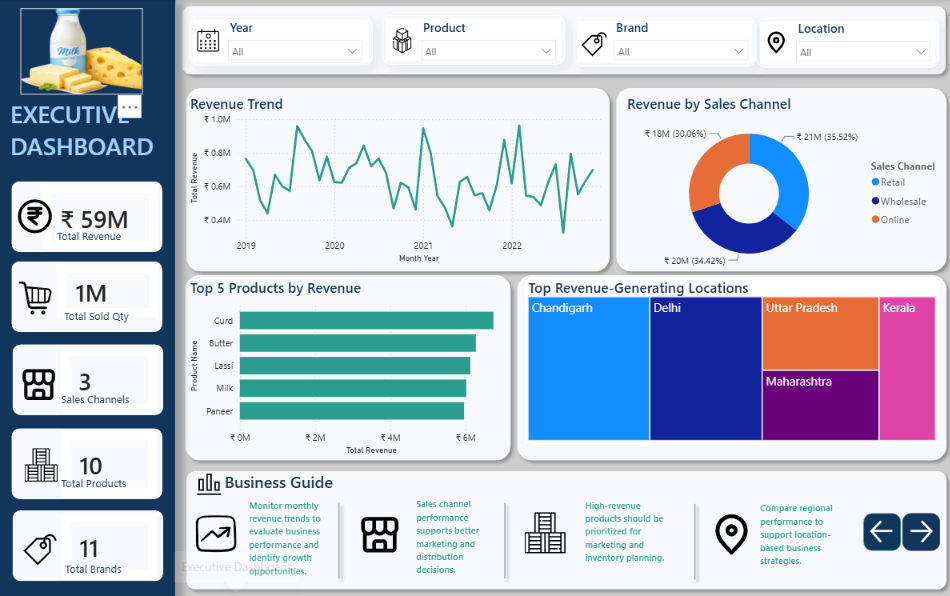

The dashboard page shown, as its layout file describes it:
{"tool":"powerbi","page":{"name":"Executive Dashboard","canvas":[1280,800],"ordinal":1},"visuals":[{"type":"shape","box":[17.4,244,188.9,85],"z":0},{"type":"shape","box":[17.4,351.2,202.4,95.2],"z":0,"group":"g6"},{"type":"shape","box":[18.8,462.5,202.4,95.2],"z":0,"group":"g7"},{"type":"shape","box":[17.4,575.1,202.4,95.2],"z":0,"group":"g8"},{"type":"shape","box":[18.8,685,202.4,95.2],"z":0,"group":"g9"},{"type":"shape","box":[1016.1,25.5,245,66.4],"z":1000,"group":"g10"},{"type":"cardVisual","fields":{"Data":["Measure Table.Total Sold Quantity"]},"box":[79.1,355.2,135.4,71],"z":1000,"group":"g6"},{"type":"cardVisual","fields":{"Data":["Measure Table.Total Sales Channels"]},"box":[83.1,466.5,130,88.5],"z":1000,"group":"g7"},{"type":"cardVisual","fields":{"Data":["Measure Table.Total Products"]},"box":[84.4,579.1,128.7,88.5],"z":1000,"group":"g8"},{"type":"shape","box":[242.6,623.3,1037.5,176.9],"z":1000},{"type":"cardVisual","fields":{"Data":["Measure Table.Total Brands"]},"box":[84.5,689,128.7,88.5],"z":1000,"group":"g9"},{"type":"shape","box":[514.7,21.4,245.2,66.4],"z":2000,"group":"g3"},{"type":"shape","box":[686.3,360.6,593.8,266.8],"z":2000},{"type":"textbox","box":[83.1,410.2,113.9,36.2],"z":2000,"group":"g6"},{"type":"textbox","box":[79.1,634.1,113.9,36.2],"z":2000,"group":"g8"},{"type":"textbox","box":[84.5,749.3,113.9,36.2],"z":2000,"group":"g9"},{"type":"shape","box":[256,22.8,245.3,66.4],"z":3000,"group":"g1"},{"type":"shape","box":[770.8,24.1,244.5,66.4],"z":3000,"group":"g2"},{"type":"shape","box":[241.3,360.6,454.4,266.8],"z":3000},{"type":"image","box":[26.8,378,45,45],"z":3000,"group":"g6"},{"type":"textbox","box":[79.1,521.5,113.9,36.2],"z":3000,"group":"g7"},{"type":"image","box":[34.8,601.9,45,45],"z":3000,"group":"g8"},{"type":"image","box":[33.5,715.8,45,45],"z":3000,"group":"g9"},{"type":"image","box":[705.1,687.7,55,55],"z":4000},{"type":"shape","box":[819,109.9,461.1,264.1],"z":5000},{"type":"shape","box":[242.6,109.9,585.8,264.1],"z":6000},{"type":"shape","box":[237.3,0,1041.6,109.9],"z":7000},{"type":"shape","box":[0,0,237.3,800.3],"z":8000},{"type":"treemap","title":"Top Revenue-Generating Locations","fields":{"Group":["Fact_Dairy.Location"],"Values":["Measure Table.Total Revenue"]},"box":[705.1,374,556.3,222.5],"z":9000},{"type":"clusteredBarChart","title":"Top 5 Products by Revenue","fields":{"Category":["Fact_Dairy.Product Name"],"Y":["Measure Table.Total Revenue"]},"box":[252,374,443.7,241.3],"z":10000},{"type":"donutChart","title":"Revenue by Sales Channel","fields":{"Y":["Measure Table.Total Revenue"],"Category":["Fact_Dairy.Sales Channel"]},"box":[837.8,127.3,441,246.7],"z":11000},{"type":"textbox","box":[10.7,127.3,219.8,138.1],"z":12000},{"type":"textbox","box":[292.2,627.3,241.3,42.9],"z":13000},{"type":"slicer","fields":{"Values":["Dim_Date.Year"]},"box":[298.2,23.8,199.7,67],"z":14000,"group":"g1"},{"type":"slicer","fields":{"Values":["Fact_Dairy.Brand"]},"box":[814.8,24.1,200.2,66],"z":14000,"group":"g2"},{"type":"actionButton","box":[1211.8,689,50,50],"z":14000},{"type":"group","id":"g1","title":"Group 3","box":[256,22.8,245.3,68.4],"z":15000},{"type":"slicer","fields":{"Values":["Fact_Dairy.Product Name"]},"box":[556,23.8,200.8,66],"z":15000,"group":"g3"},{"type":"group","id":"g2","title":"Group 12","box":[770.8,24.1,245.3,68.4],"z":16000},{"type":"slicer","fields":{"Values":["Fact_Dairy.Location"]},"box":[1059.3,25.5,200.7,66],"z":16000,"group":"g10"},{"type":"group","id":"g3","title":"Group 13","box":[514.7,21.4,245.3,68.4],"z":17000},{"type":"group","id":"g4","title":"Group 14","box":[1016.1,25.5,245.3,67],"z":18000},{"type":"image","box":[29.5,12.1,163.5,115.3],"z":19000},{"type":"image","box":[781.1,27.7,34.1,65],"z":19000,"group":"g2"},{"type":"image","box":[263.5,22.8,34.3,65],"z":20000,"group":"g1"},{"type":"group","id":"g5","title":"Group 1","box":[17.4,244,202.4,95.2],"z":20000},{"type":"shape","box":[17.4,244,202.4,95.2],"z":20000,"group":"g5"},{"type":"image","box":[524.1,22.6,34.2,65],"z":21000,"group":"g3"},{"type":"cardVisual","fields":{"Data":["Measure Table.Total Revenue"]},"box":[59,248,155.5,88.5],"z":21000,"group":"g5"},{"type":"group","id":"g6","title":"Group 2","box":[17.4,351.2,202.4,95.2],"z":21000},{"type":"image","box":[24.1,265.4,49.6,50.9],"z":22000,"group":"g5"},{"type":"group","id":"g7","title":"Group 4","box":[18.8,462.5,202.4,95.2],"z":22000},{"type":"image","box":[1025.5,25.5,34.2,65.1],"z":23000,"group":"g10"},{"type":"group","id":"g8","title":"Group 5","box":[17.4,575.1,202.4,95.2],"z":23000},{"type":"group","id":"g9","title":"Group 6","box":[18.8,685,202.4,100.5],"z":24000},{"type":"group","id":"g10","title":"Group 15","box":[1016.1,25.5,245,66.4],"z":24001,"group":"g4"},{"type":"image","box":[950.4,685,65,65],"z":25000},{"type":"image","box":[28.5,484.8,52,65],"z":26000},{"type":"lineChart","title":"Revenue Trend","fields":{"Y":["Measure Table.Total Revenue"],"Category":["Dim_Date.Month Year"]},"box":[252,127.3,563,230.6],"z":27000},{"type":"textbox","box":[331.1,663.5,138.1,124.7],"z":28000},{"type":"shape","box":[424.9,666.2,63,119.3],"z":29000},{"type":"shape","box":[636.7,666.2,84.5,119.3],"z":30000},{"type":"shape","box":[887.4,667.6,92.5,119.3],"z":31000},{"type":"textbox","box":[73.7,303,113.9,36.2],"z":32000,"group":"g5"},{"type":"image","box":[264.1,689,55,55],"z":32000},{"type":"textbox","box":[555,662.2,98.8,124.6],"z":33000},{"type":"textbox","box":[781.5,663.5,127,124.6],"z":34000},{"type":"textbox","box":[1016.1,667.6,127,124.6],"z":35000},{"type":"image","box":[481.2,689,60,60],"z":36000},{"type":"image","box":[252,634.1,60.3,32.2],"z":37000},{"type":"actionButton","box":[1159.5,689,50,50],"z":38000}]}

Visuals, with their boxes in screenshot pixels (x1, y1, x2, y2), scaled from the page's 1280x800 canvas onto the 950x596 screenshot:
shape: x1=13 y1=182 x2=153 y2=245
shape: x1=13 y1=262 x2=163 y2=333
shape: x1=14 y1=345 x2=164 y2=415
shape: x1=13 y1=428 x2=163 y2=499
shape: x1=14 y1=510 x2=164 y2=581
shape: x1=754 y1=19 x2=936 y2=68
cardVisual - Measure Table.Total Sold Quantity: x1=59 y1=265 x2=159 y2=318
cardVisual - Measure Table.Total Sales Channels: x1=62 y1=348 x2=158 y2=413
cardVisual - Measure Table.Total Products: x1=63 y1=431 x2=158 y2=497
shape: x1=180 y1=464 x2=949 y2=595
cardVisual - Measure Table.Total Brands: x1=63 y1=513 x2=158 y2=579
shape: x1=382 y1=16 x2=564 y2=65
shape: x1=509 y1=269 x2=949 y2=467
textbox: x1=62 y1=306 x2=146 y2=333
textbox: x1=59 y1=472 x2=143 y2=499
textbox: x1=63 y1=558 x2=147 y2=585
shape: x1=190 y1=17 x2=372 y2=66
shape: x1=572 y1=18 x2=754 y2=67
shape: x1=179 y1=269 x2=516 y2=467
image: x1=20 y1=282 x2=53 y2=315
textbox: x1=59 y1=389 x2=143 y2=415
image: x1=26 y1=448 x2=59 y2=482
image: x1=25 y1=533 x2=58 y2=567
image: x1=523 y1=512 x2=564 y2=553
shape: x1=608 y1=82 x2=949 y2=279
shape: x1=180 y1=82 x2=615 y2=279
shape: x1=176 y1=0 x2=949 y2=82
shape: x1=0 y1=0 x2=176 y2=595
"Top Revenue-Generating Locations" treemap: x1=523 y1=279 x2=936 y2=444
"Top 5 Products by Revenue" clusteredBarChart: x1=187 y1=279 x2=516 y2=458
"Revenue by Sales Channel" donutChart: x1=622 y1=95 x2=949 y2=279
textbox: x1=8 y1=95 x2=171 y2=198
textbox: x1=217 y1=467 x2=396 y2=499
slicer - Dim_Date.Year: x1=221 y1=18 x2=370 y2=68
slicer - Fact_Dairy.Brand: x1=605 y1=18 x2=753 y2=67
actionButton: x1=899 y1=513 x2=936 y2=551
"Group 3" group: x1=190 y1=17 x2=372 y2=68
slicer - Fact_Dairy.Product Name: x1=413 y1=18 x2=562 y2=67
"Group 12" group: x1=572 y1=18 x2=754 y2=69
slicer - Fact_Dairy.Location: x1=786 y1=19 x2=935 y2=68
"Group 13" group: x1=382 y1=16 x2=564 y2=67
"Group 14" group: x1=754 y1=19 x2=936 y2=69
image: x1=22 y1=9 x2=143 y2=95
image: x1=580 y1=21 x2=605 y2=69
image: x1=196 y1=17 x2=221 y2=65
"Group 1" group: x1=13 y1=182 x2=163 y2=253
shape: x1=13 y1=182 x2=163 y2=253
image: x1=389 y1=17 x2=414 y2=65
cardVisual - Measure Table.Total Revenue: x1=44 y1=185 x2=159 y2=251
"Group 2" group: x1=13 y1=262 x2=163 y2=333
image: x1=18 y1=198 x2=55 y2=236
"Group 4" group: x1=14 y1=345 x2=164 y2=415
image: x1=761 y1=19 x2=786 y2=67
"Group 5" group: x1=13 y1=428 x2=163 y2=499
"Group 6" group: x1=14 y1=510 x2=164 y2=585
"Group 15" group: x1=754 y1=19 x2=936 y2=68
image: x1=705 y1=510 x2=754 y2=559
image: x1=21 y1=361 x2=60 y2=410
"Revenue Trend" lineChart: x1=187 y1=95 x2=605 y2=267
textbox: x1=246 y1=494 x2=348 y2=587
shape: x1=315 y1=496 x2=362 y2=585
shape: x1=473 y1=496 x2=535 y2=585
shape: x1=659 y1=497 x2=727 y2=586
textbox: x1=55 y1=226 x2=139 y2=253
image: x1=196 y1=513 x2=237 y2=554
textbox: x1=412 y1=493 x2=485 y2=586
textbox: x1=580 y1=494 x2=674 y2=587
textbox: x1=754 y1=497 x2=848 y2=590
image: x1=357 y1=513 x2=402 y2=558
image: x1=187 y1=472 x2=232 y2=496
actionButton: x1=861 y1=513 x2=898 y2=551
